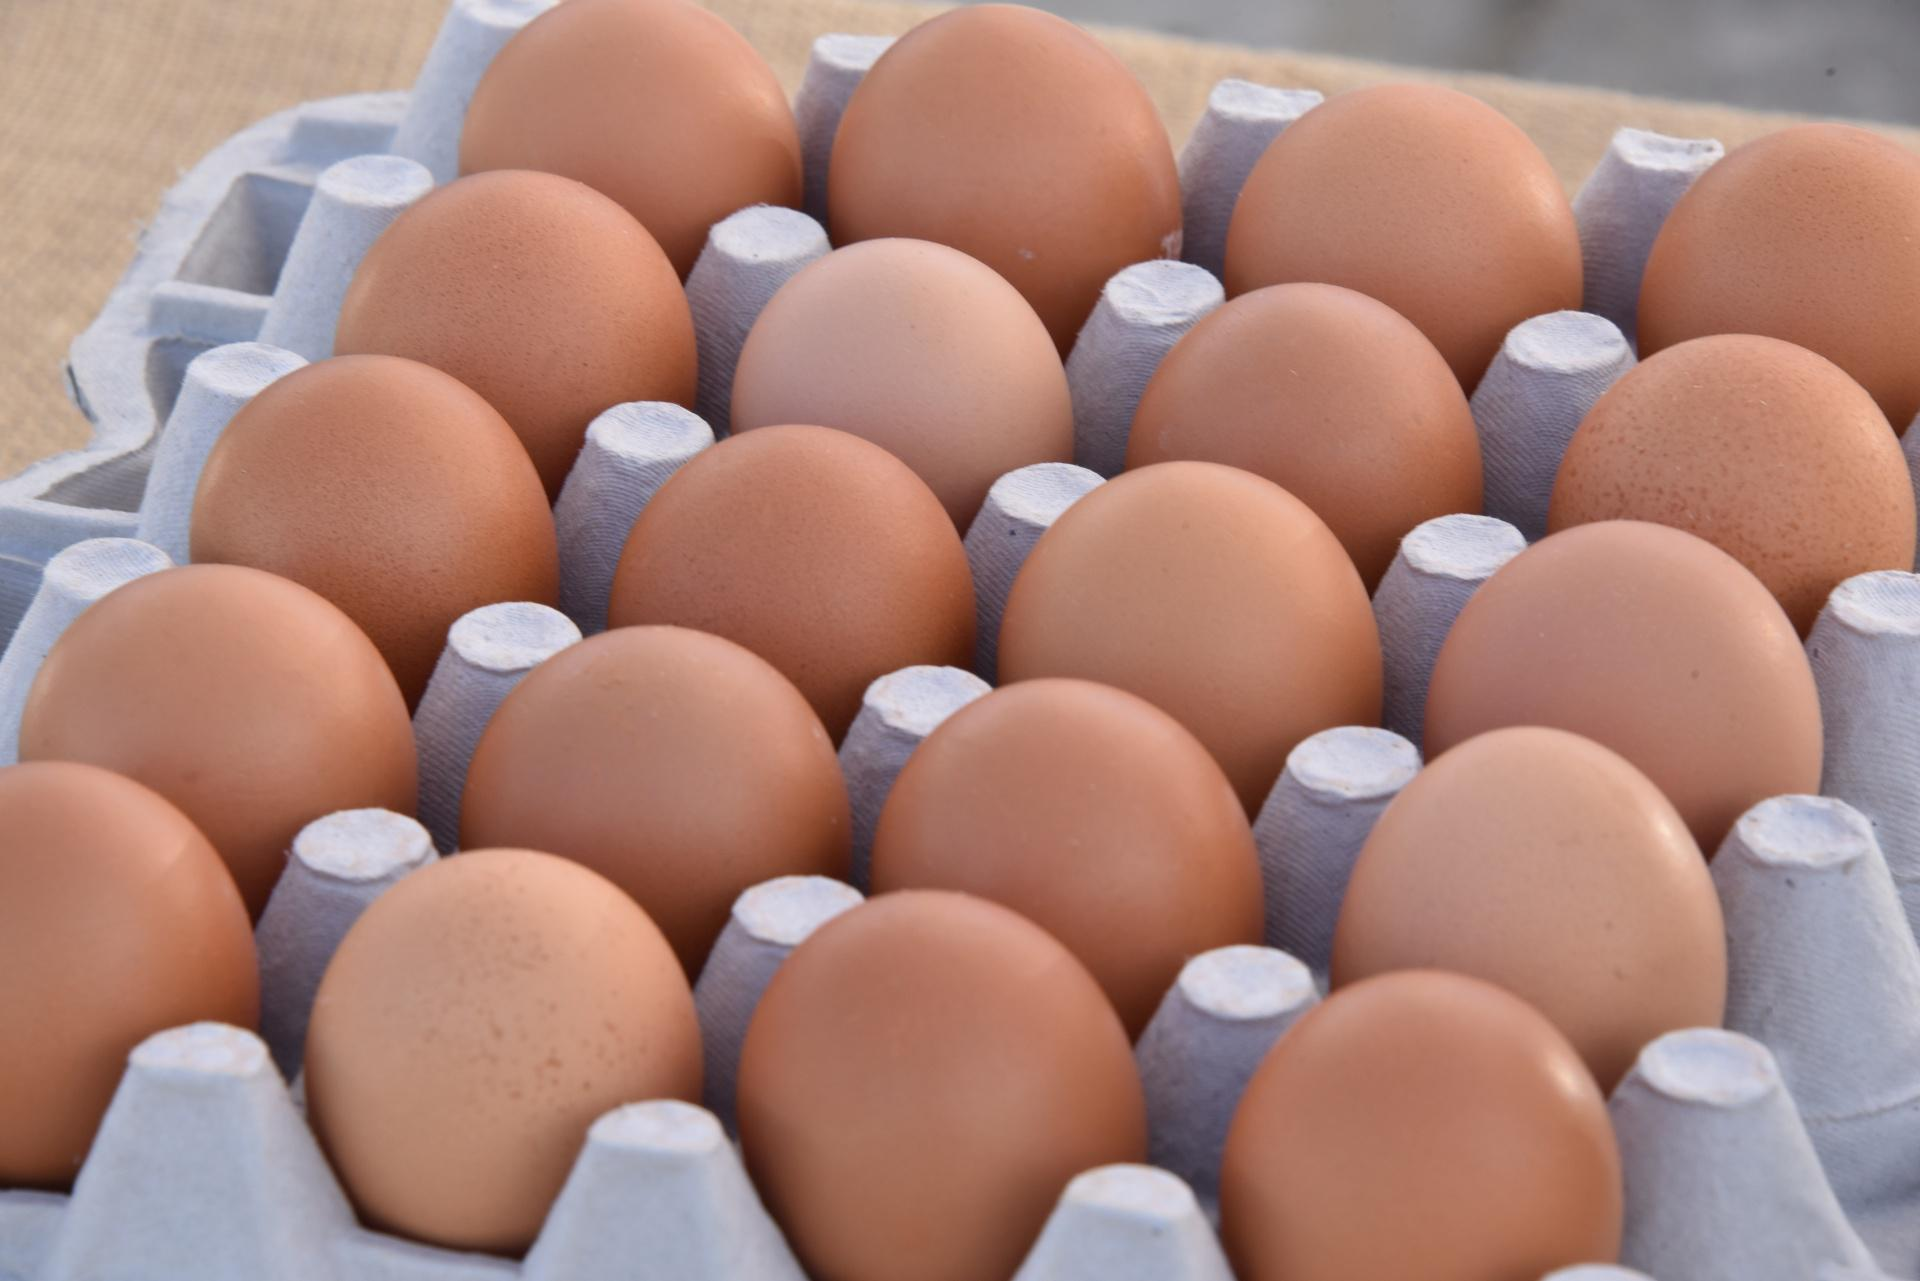egg: (295, 835, 711, 1278), (1312, 709, 1747, 1127), (1402, 495, 1847, 876), (732, 881, 1151, 1281), (169, 342, 568, 733), (986, 450, 1400, 826), (863, 673, 1277, 1009), (11, 558, 439, 875), (1217, 959, 1636, 1281), (447, 610, 865, 906), (600, 407, 991, 719), (828, 0, 1178, 346), (0, 761, 266, 1189), (1224, 81, 1585, 387), (336, 174, 695, 475), (1545, 332, 1920, 616), (1119, 283, 1487, 550), (729, 236, 1078, 506), (459, 0, 802, 272), (1638, 117, 1920, 442)
